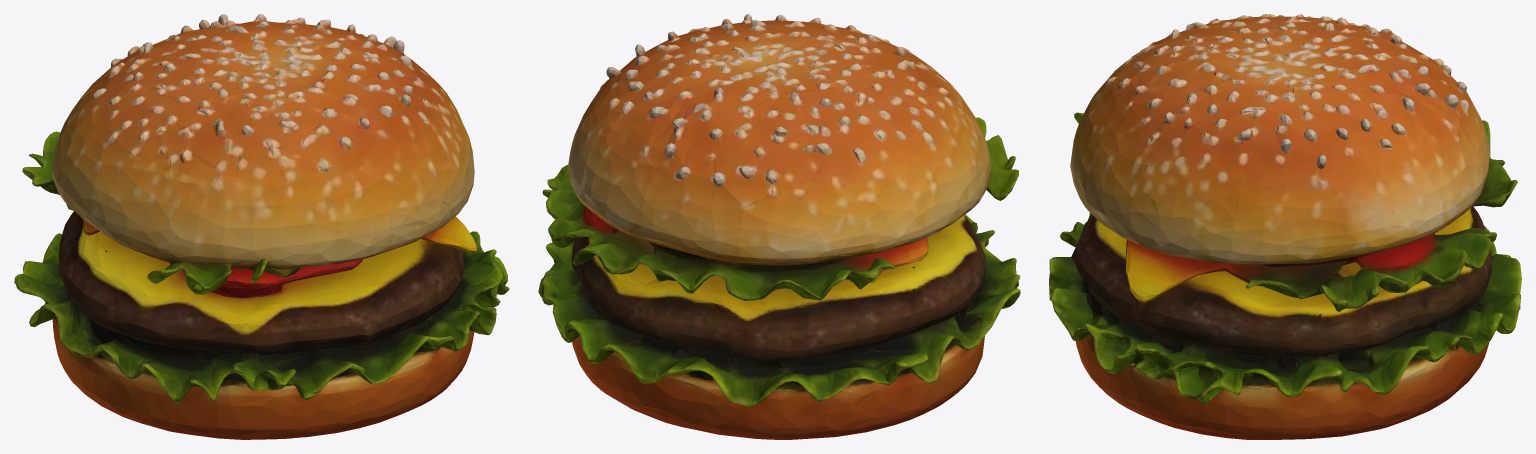
File: food_hamburger.glb
3 renders of one model, left to right at view 1: azimuth 30°, elevation 25°; view 2: azimuth 150°, elevation 25°; view 3: azimuth 270°, elevation 25°, orthographic.
Parts seen in each view (by area): view 1: geometry_0; view 2: geometry_0; view 3: geometry_0.
Boxes of the visible parts, left/top/right/bottom form: geometry_0: left=14, top=14, right=509, bottom=439; geometry_0: left=538, top=14, right=1020, bottom=439; geometry_0: left=1049, top=14, right=1521, bottom=439.
Bounding box in the file's own units: 0.9943 × 0.7104 × 0.9978.
Materials: 1 (1 with a texture image).
